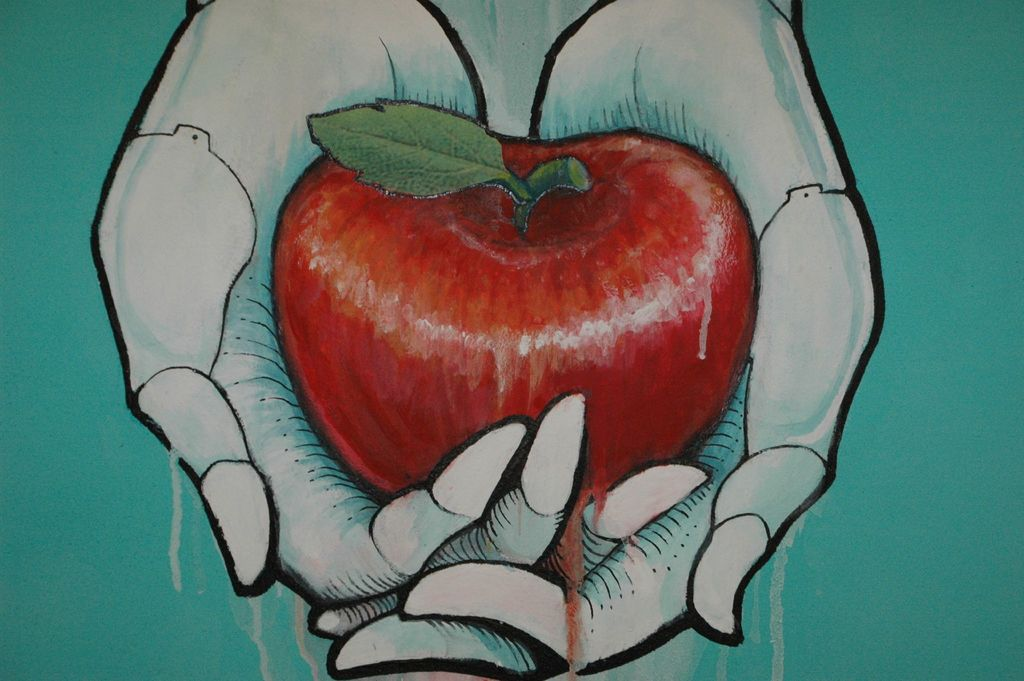Apple: (272, 97, 759, 500)
